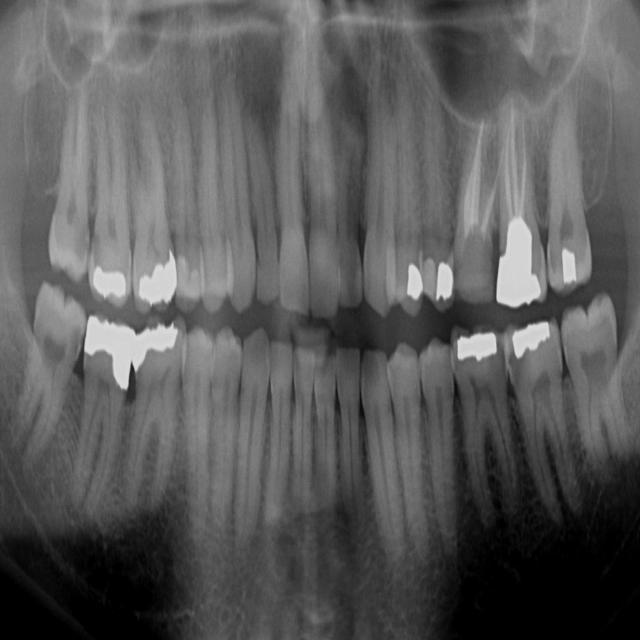infected-teeth: (493, 85, 546, 306), (454, 106, 506, 306)
